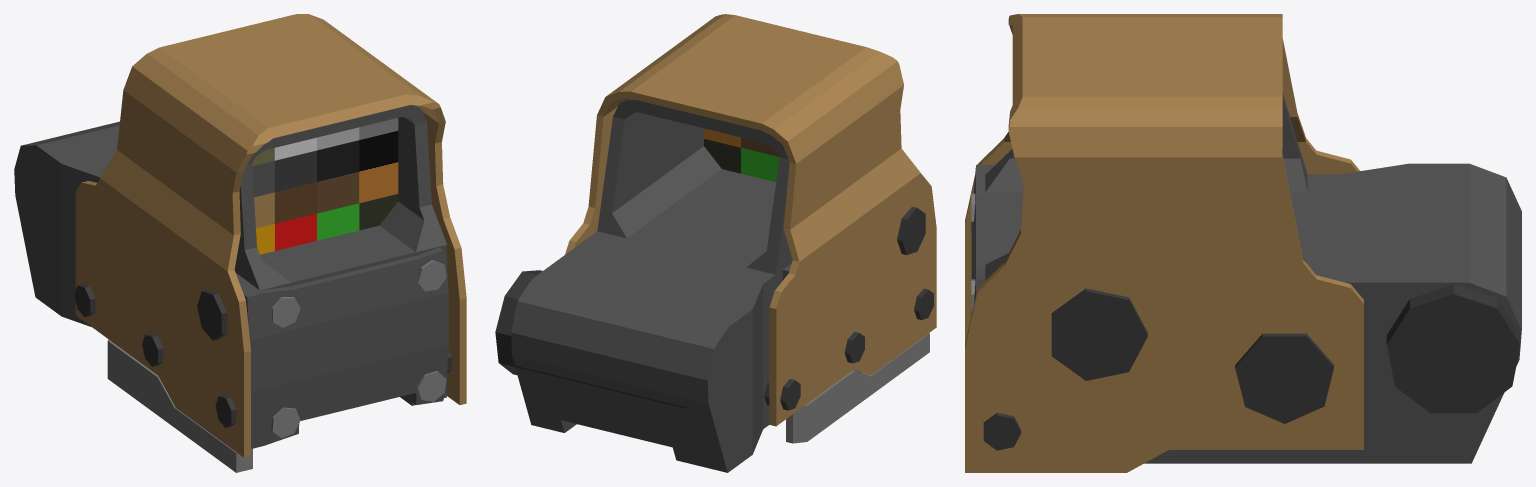
The picture shows the model from 3 angles, left to right: view 1: azimuth 30°, elevation 25°; view 2: azimuth 150°, elevation 25°; view 3: azimuth 270°, elevation 25°; orthographic projection. The views are drawn at different scales.
Parts seen in each view (by area): view 1: MK17, Lens; view 2: MK17, Lens; view 3: MK17.
Part boxes in pixels (x1,y1,x2,y2): MK17: [14, 14, 466, 472]; Lens: [252, 118, 398, 254]; MK17: [495, 14, 936, 472]; Lens: [704, 128, 779, 181]; MK17: [965, 14, 1521, 472].
Bounding box in the file's own units: 99.98 × 131 × 174.
Materials: 1 (1 with a texture image).
